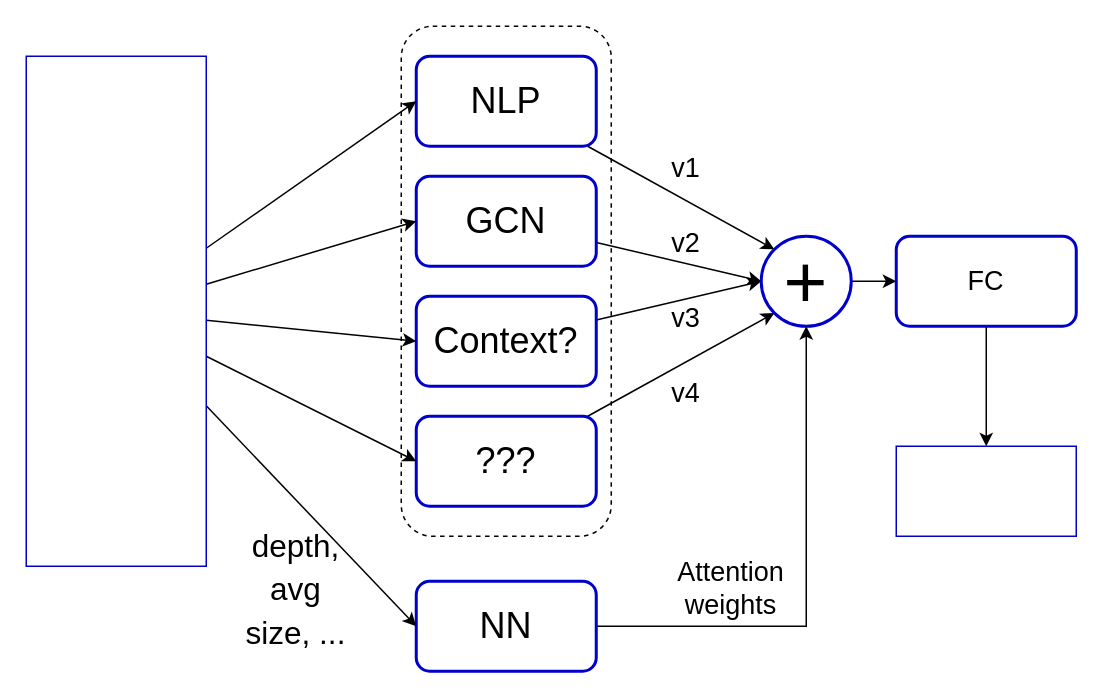
This 1104x699 diagram has some shape labels left out. The shapes that lost their labels are listed below. From the top down, each one's centre as x and y in pixels, then its label:
(x=115, y=310): Input data
(x=985, y=490): classification result
